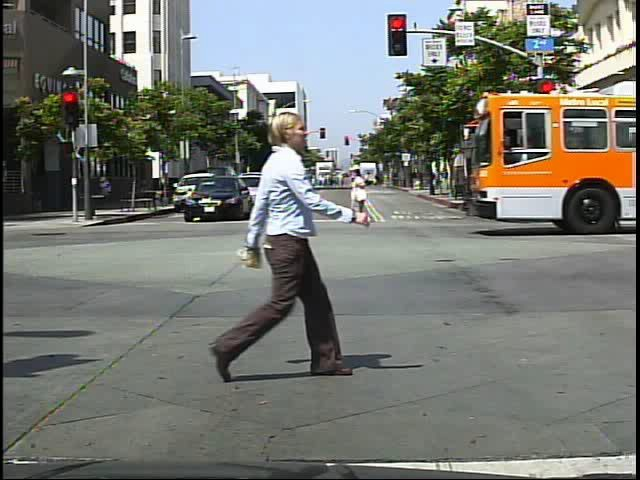person: (202, 90, 354, 389), (272, 164, 305, 236), (264, 167, 294, 228), (346, 164, 378, 210), (551, 160, 574, 211)
